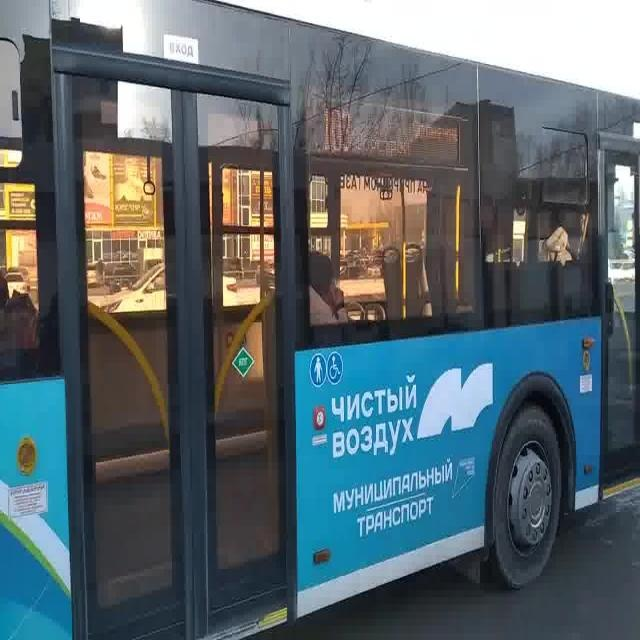Bus: (1, 1, 640, 640)
